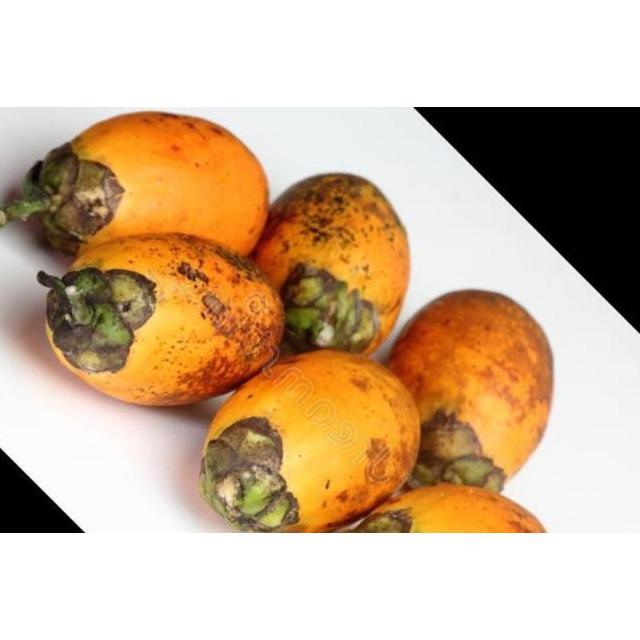good: (23, 114, 549, 533)
